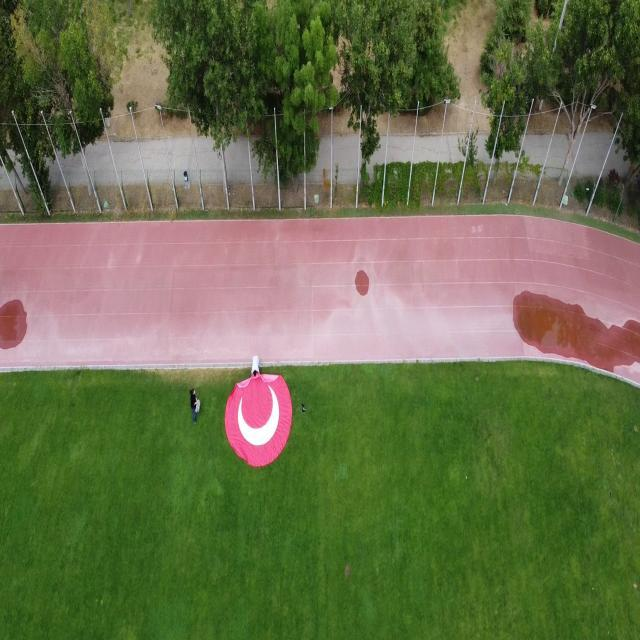vehicle: (225, 373, 292, 467), (190, 388, 198, 426), (251, 354, 261, 378)
